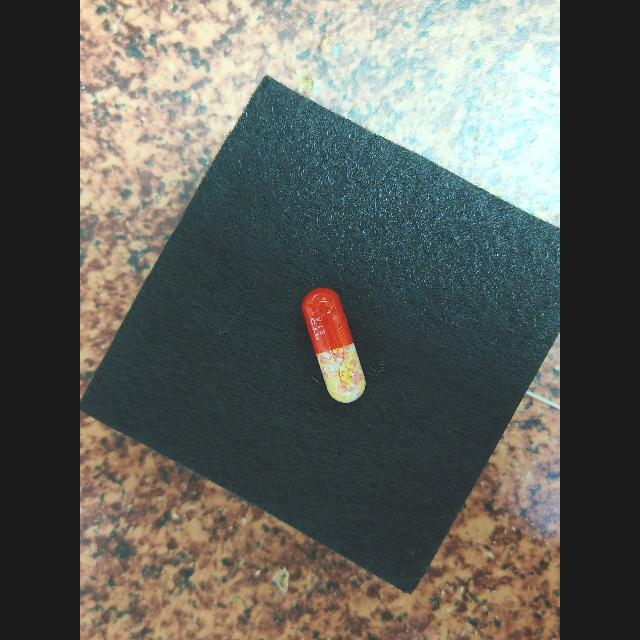Intact Capsule: (302, 287, 366, 403)
